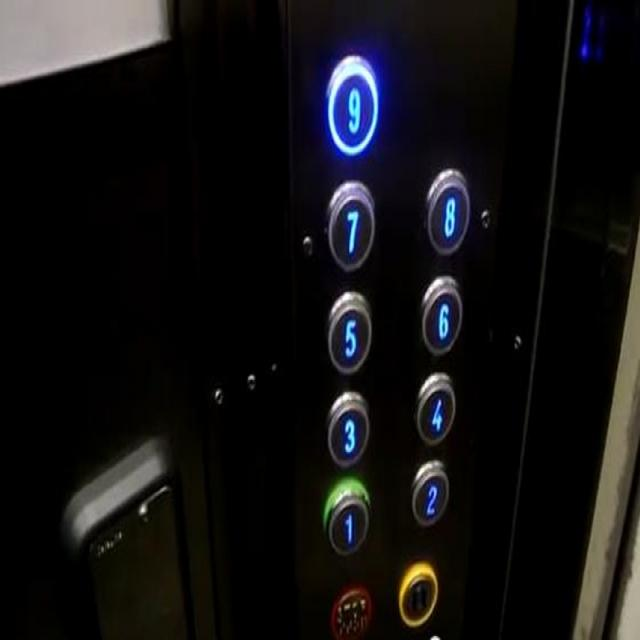1: (318, 472, 374, 559)
2: (408, 456, 452, 529)
3: (321, 388, 374, 468)
4: (410, 366, 459, 451)
5: (320, 284, 375, 377)
6: (414, 268, 466, 359)
7: (320, 172, 378, 275)
8: (421, 160, 472, 263)
9: (320, 46, 381, 162)
blur: (394, 555, 442, 632), (326, 577, 378, 639)
